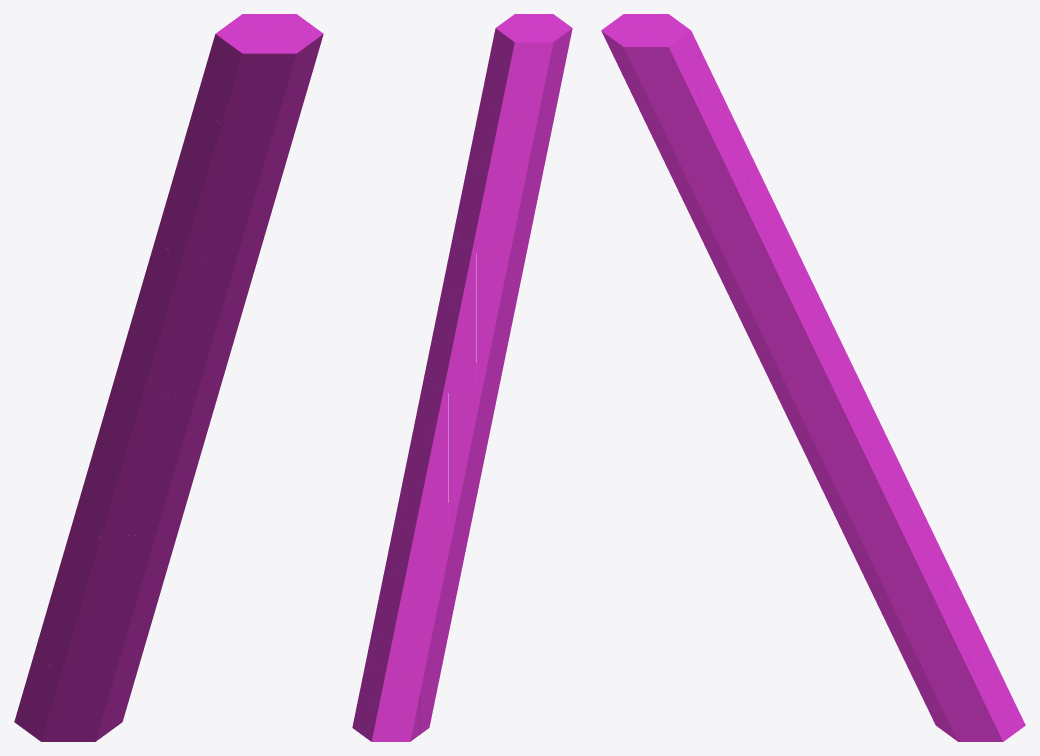
Rendered from Wall_1_CellFracture_1.fbx.
3 views of the same model, side by side, from view 1: azimuth 30°, elevation 25°; view 2: azimuth 150°, elevation 25°; view 3: azimuth 270°, elevation 25° (orthographic). The views are drawn at different scales.
Parts seen in each view (by area): view 1: Wall_1_Cell Fracture_cell.028, Wall_1_Cell Fracture_cell.031, Wall_1_Cell Fracture_cell.030, Wall_1_Cell Fracture_cell.029, Wall_1_Cell Fracture_cell.027, Wall_1_Cell Fracture_cell.024, Wall_1_Cell Fracture_cell.025, Wall_1_Cell Fracture_cell.026, Wall_1_Cell Fracture_cell.006, Wall_1_Cell Fracture_cell.009, Wall_1_Cell Fracture_cell.008, Wall_1_Cell Fracture_cell.011 (+12 smaller); view 2: Wall_1_Cell Fracture_cell.015, Wall_1_Cell Fracture_cell.012, Wall_1_Cell Fracture_cell.014, Wall_1_Cell Fracture_cell.013, Wall_1_Cell Fracture_cell.035, Wall_1_Cell Fracture_cell.032, Wall_1_Cell Fracture_cell.034, Wall_1_Cell Fracture_cell.033, Wall_1_Cell Fracture_cell.001, Wall_1_Cell Fracture_cell.011, Wall_1_Cell Fracture_cell.010, Wall_1_Cell Fracture_cell.029 (+12 smaller); view 3: Wall_1_Cell Fracture_cell.016, Wall_1_Cell Fracture_cell.017, Wall_1_Cell Fracture_cell.018, Wall_1_Cell Fracture_cell.019, Wall_1_Cell Fracture_cell.023, Wall_1_Cell Fracture_cell.022, Wall_1_Cell Fracture_cell.021, Wall_1_Cell Fracture_cell.020, Wall_1_Cell Fracture_cell.003, Wall_1_Cell Fracture_cell.004, Wall_1_Cell Fracture_cell.014, Wall_1_Cell Fracture_cell.013 (+12 smaller).
Boxes of the visible parts, bbox=[...] form: Wall_1_Cell Fracture_cell.028: bbox=[188, 100, 229, 260]; Wall_1_Cell Fracture_cell.031: bbox=[68, 513, 108, 672]; Wall_1_Cell Fracture_cell.030: bbox=[108, 375, 148, 535]; Wall_1_Cell Fracture_cell.029: bbox=[148, 238, 188, 397]; Wall_1_Cell Fracture_cell.027: bbox=[108, 522, 177, 672]; Wall_1_Cell Fracture_cell.024: bbox=[229, 109, 298, 259]; Wall_1_Cell Fracture_cell.025: bbox=[189, 246, 258, 397]; Wall_1_Cell Fracture_cell.026: bbox=[149, 384, 217, 535]; Wall_1_Cell Fracture_cell.006: bbox=[68, 659, 137, 741]; Wall_1_Cell Fracture_cell.009: bbox=[229, 34, 269, 122]; Wall_1_Cell Fracture_cell.008: bbox=[27, 651, 68, 741]; Wall_1_Cell Fracture_cell.011: bbox=[196, 24, 269, 125]; Wall_1_Cell Fracture_cell.015: bbox=[456, 111, 505, 252]; Wall_1_Cell Fracture_cell.012: bbox=[370, 531, 419, 672]; Wall_1_Cell Fracture_cell.014: bbox=[427, 251, 476, 392]; Wall_1_Cell Fracture_cell.013: bbox=[399, 391, 447, 532]; Wall_1_Cell Fracture_cell.035: bbox=[419, 532, 448, 669]; Wall_1_Cell Fracture_cell.032: bbox=[505, 112, 534, 249]; Wall_1_Cell Fracture_cell.034: bbox=[448, 392, 476, 529]; Wall_1_Cell Fracture_cell.033: bbox=[477, 252, 505, 389]; Wall_1_Cell Fracture_cell.001: bbox=[484, 28, 533, 113]; Wall_1_Cell Fracture_cell.011: bbox=[534, 28, 562, 109]; Wall_1_Cell Fracture_cell.010: bbox=[391, 672, 419, 741]; Wall_1_Cell Fracture_cell.029: bbox=[492, 241, 528, 354]; Wall_1_Cell Fracture_cell.016: bbox=[713, 103, 770, 257]; Wall_1_Cell Fracture_cell.017: bbox=[780, 242, 837, 396]; Wall_1_Cell Fracture_cell.018: bbox=[847, 381, 904, 536]; Wall_1_Cell Fracture_cell.019: bbox=[914, 520, 971, 675]; Wall_1_Cell Fracture_cell.023: bbox=[856, 525, 913, 664]; Wall_1_Cell Fracture_cell.022: bbox=[789, 386, 846, 524]; Wall_1_Cell Fracture_cell.021: bbox=[722, 247, 779, 385]; Wall_1_Cell Fracture_cell.020: bbox=[655, 108, 712, 246]; Wall_1_Cell Fracture_cell.003: bbox=[646, 30, 703, 118]; Wall_1_Cell Fracture_cell.004: bbox=[923, 664, 980, 741]; Wall_1_Cell Fracture_cell.014: bbox=[789, 239, 858, 388]; Wall_1_Cell Fracture_cell.013: bbox=[856, 378, 925, 527].
Size of the model in its own units: 379 by 3725 by 2063.
